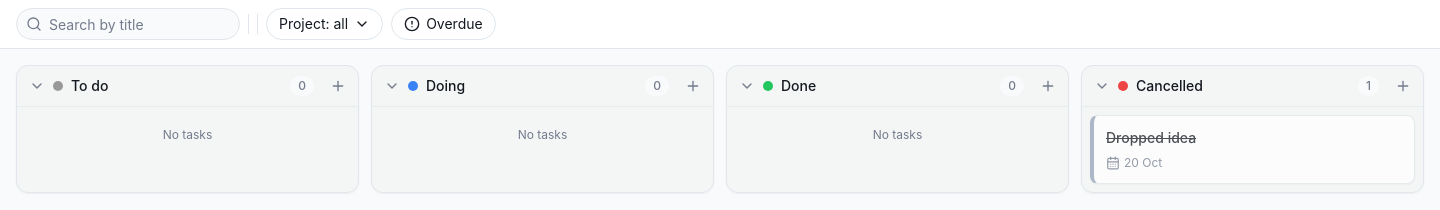
Test: PlannerBoard › shows the cancelled column open with its cards, foldable by click
Expected: the text "Dropped idea" is shown, [1106,128,1196,147]
What coordinates should you click on to do the following:
click the button "Cancelled 1"
I would click on:
 (1169, 86)
Its box is [1088,72,1385,100].
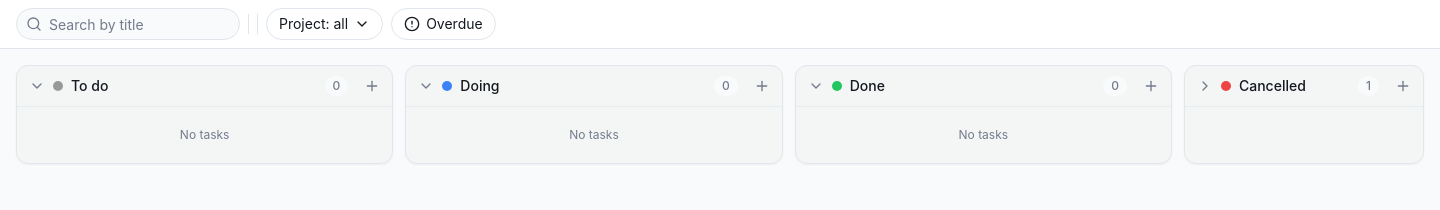
Result: the button "Dropped idea" is gone
